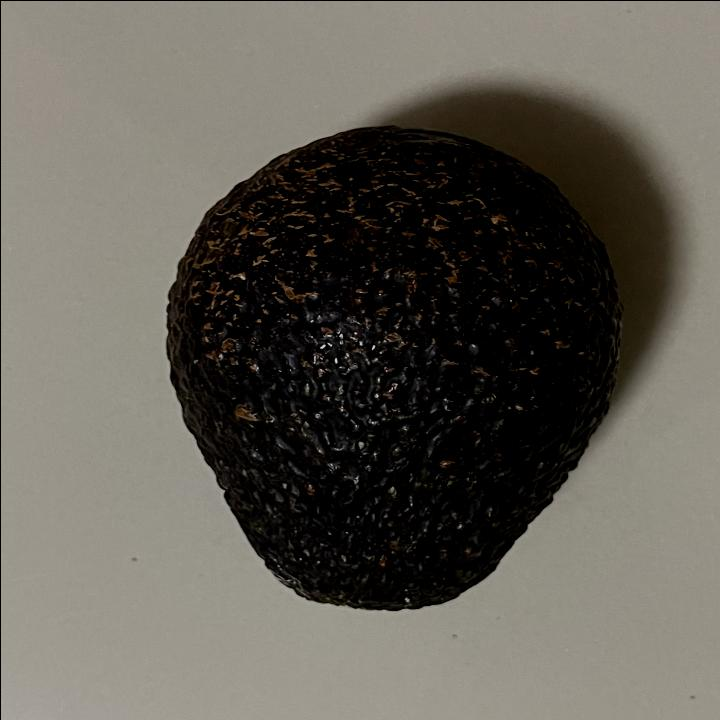Level1: (148, 116, 634, 622)
